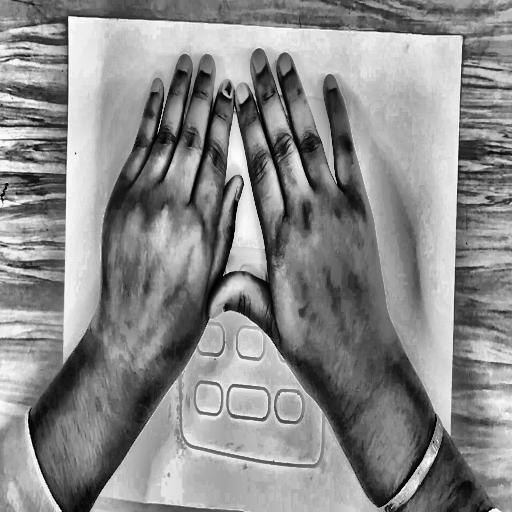bottom_left: (61, 480, 68, 493)
mobile: (173, 39, 342, 478)
top_left: (65, 9, 74, 24)
top_right: (458, 28, 468, 46)
